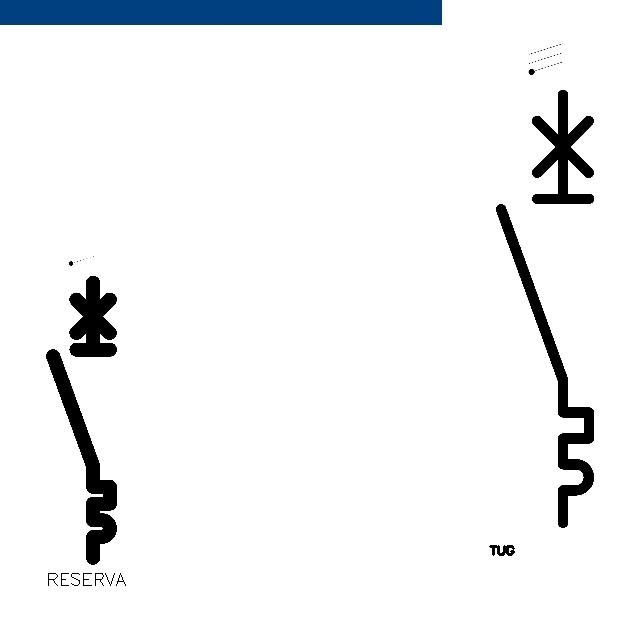interruptor_termomagnetico: (490, 83, 600, 533), (46, 275, 117, 564)
